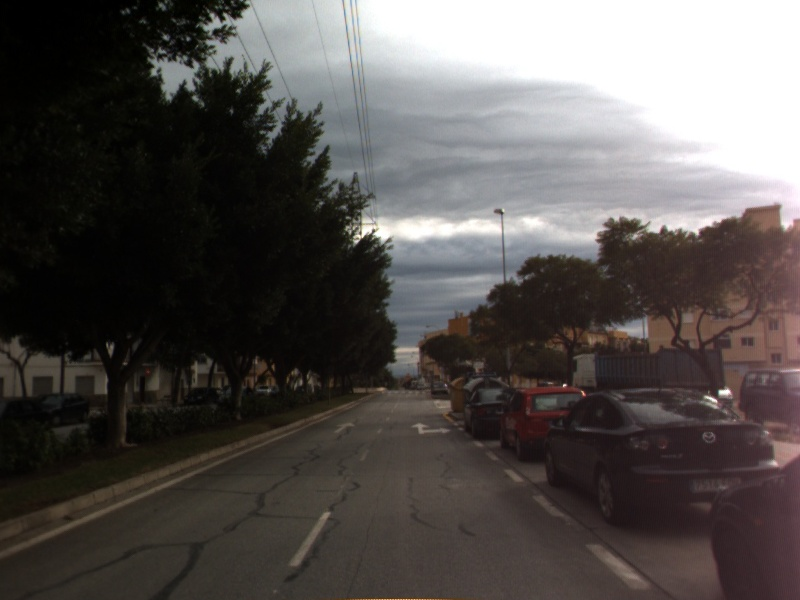STRAIGHT: (331, 420, 358, 435)
STRAIGHT_RIGHT: (409, 420, 455, 437)
